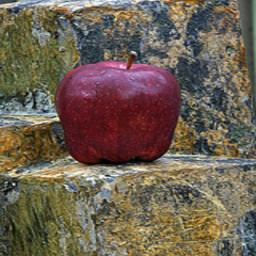apple: (52, 56, 182, 168)
